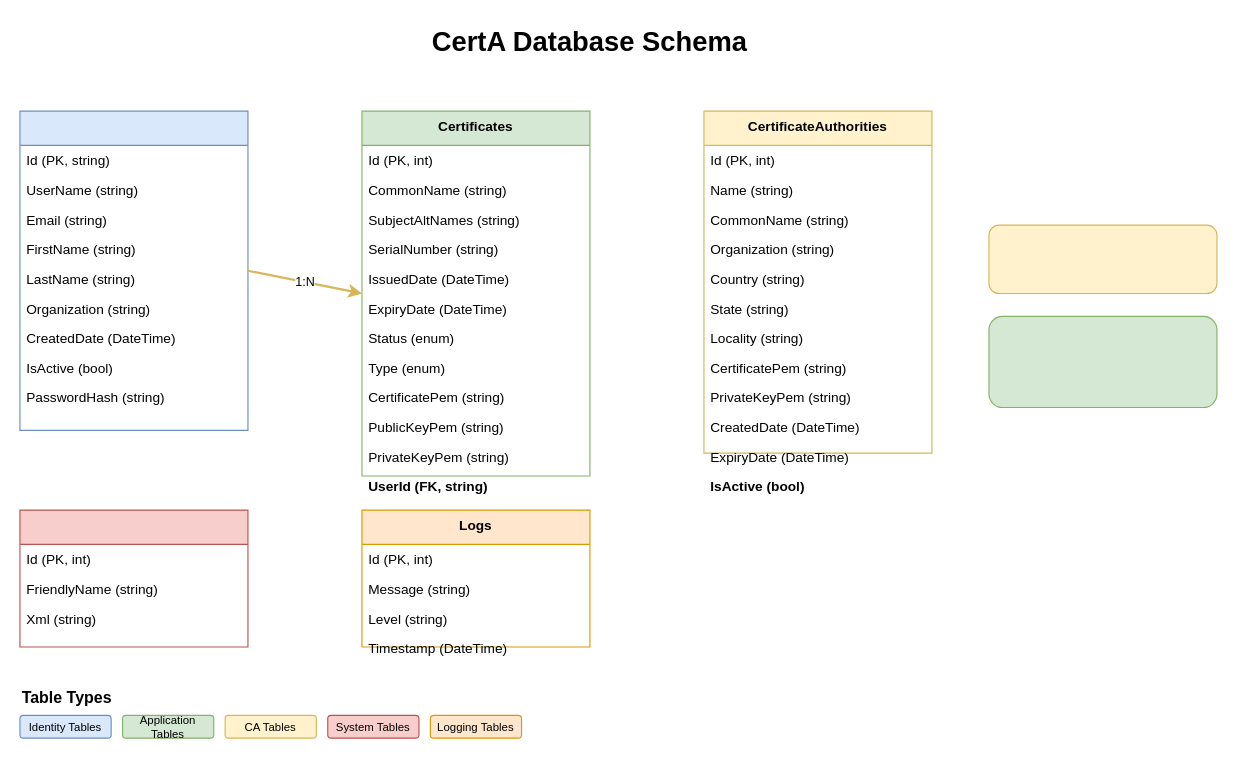
Image size: 1237x759. Some labels were removed from this diagram. Each missing label, with the box of its shape:
AspNetUsers: (19, 110, 248, 430)
DataProtectionKeys: (19, 509, 248, 647)
Foreign Key: Certificates.UserId → AspNetUsers.Id CASCADE DELETE: (988, 315, 1217, 408)
Unique Index: IX_CertificateAuthorities_IsActive WHERE IsActive = true: (988, 224, 1217, 294)
